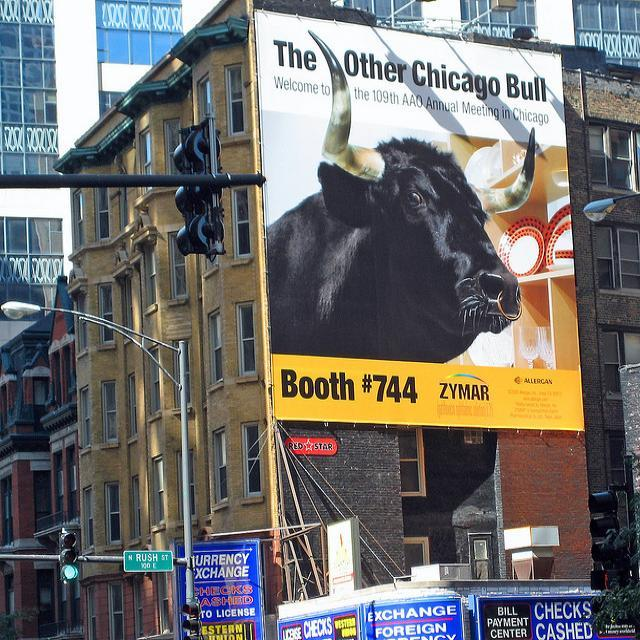cow: (267, 27, 534, 364)
